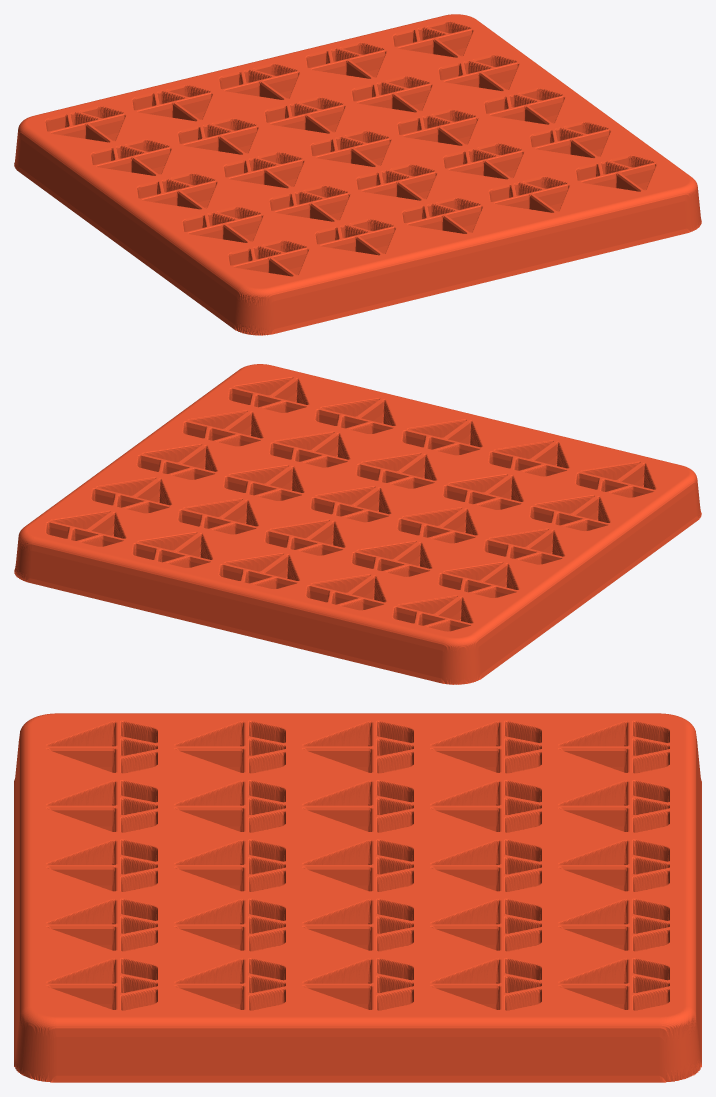
File: mold.glb
The picture shows the model from 3 angles, top to bottom: view 1: azimuth 30°, elevation 25°; view 2: azimuth 150°, elevation 25°; view 3: azimuth 270°, elevation 25°; orthographic projection. The views are drawn at different scales.
Visible parts, largest first — view 1: geometry_0; view 2: geometry_0; view 3: geometry_0.
Part boxes in pixels (left/top/right/bottom): geometry_0: left=14, top=14, right=701, bottom=335; geometry_0: left=14, top=364, right=701, bottom=684; geometry_0: left=14, top=713, right=701, bottom=1082.
Bounding box in the file's own units: 0.1584 × 0.0136 × 0.1454.
